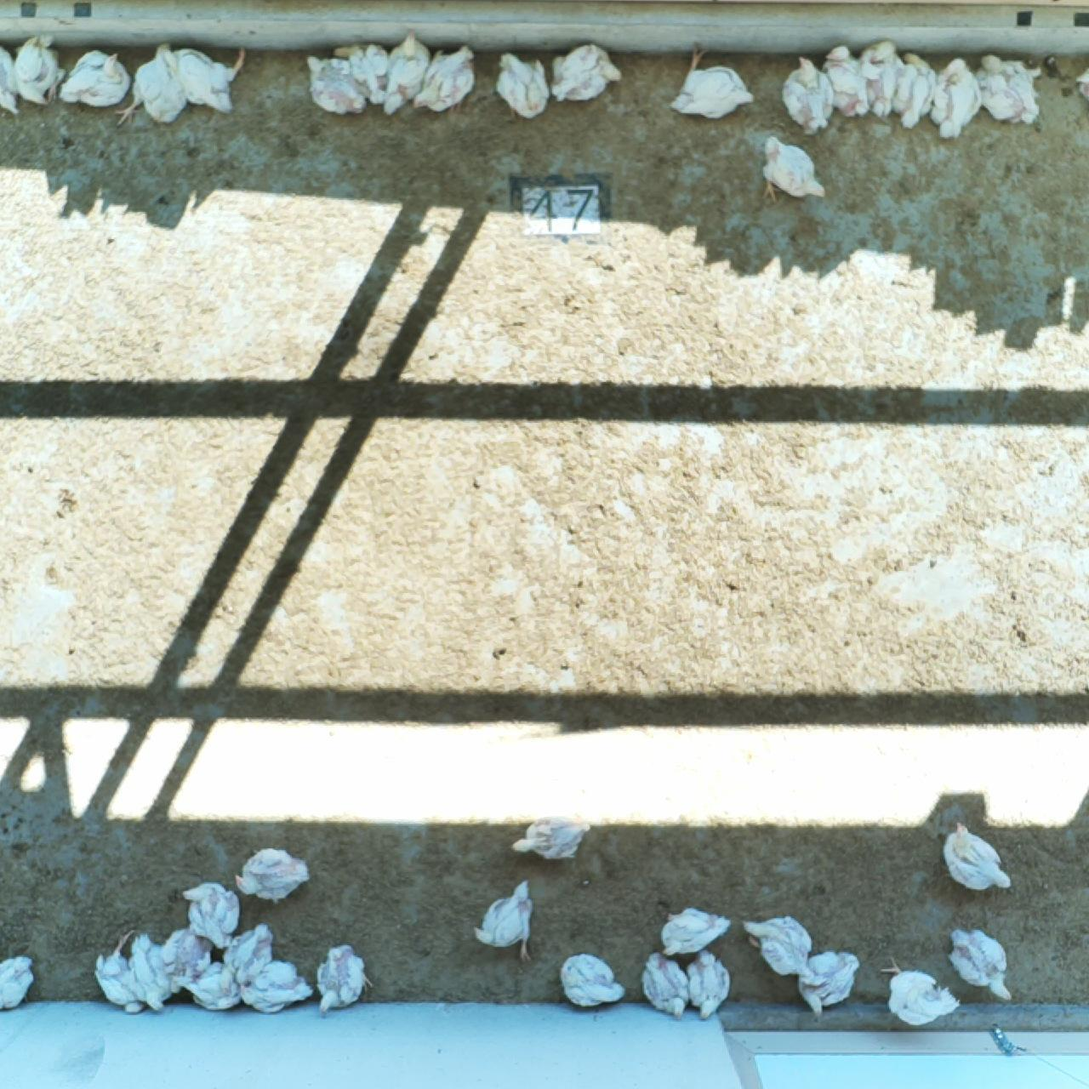chicken: (162, 43, 247, 122), (670, 43, 756, 119), (120, 43, 185, 126), (942, 825, 1018, 892), (946, 929, 1012, 1001), (547, 45, 623, 107), (762, 137, 829, 206), (928, 53, 982, 138), (887, 967, 961, 1026), (476, 884, 530, 963), (494, 47, 550, 123), (414, 47, 476, 114), (233, 966, 315, 1016), (95, 930, 145, 1012), (980, 56, 1038, 126), (509, 816, 591, 865), (234, 851, 309, 904), (316, 945, 369, 1018), (181, 883, 240, 948), (824, 47, 875, 122), (784, 56, 833, 134), (745, 917, 812, 974), (305, 56, 366, 118), (385, 33, 432, 113), (800, 954, 861, 1015), (856, 38, 902, 118), (896, 50, 943, 128), (62, 52, 131, 105), (560, 956, 625, 1011), (663, 909, 732, 960), (18, 34, 64, 110), (346, 42, 397, 108), (162, 929, 211, 992), (134, 938, 175, 1011), (178, 967, 247, 1008), (224, 926, 277, 979), (688, 953, 731, 1016), (646, 954, 688, 1018), (1, 958, 34, 1008), (1, 46, 20, 115)
